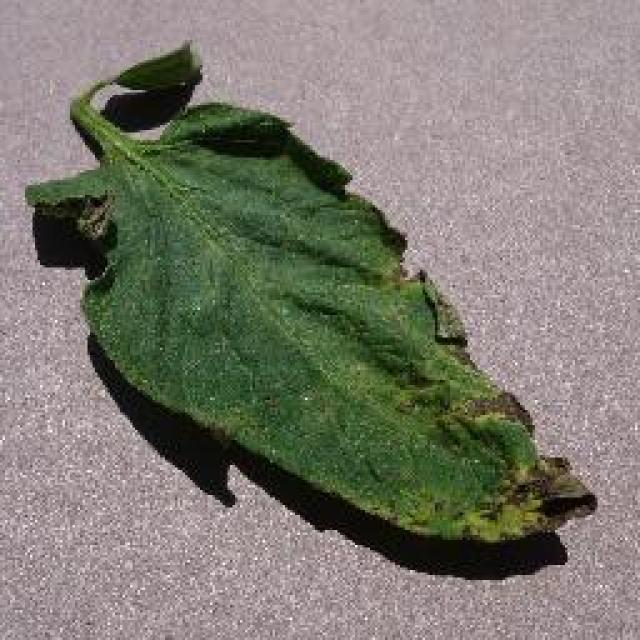Tomato___Septoria_leaf_spot: (25, 42, 590, 540)
